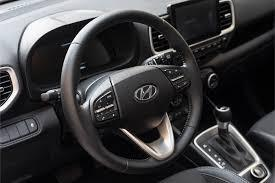hyundai: (128, 82, 161, 104)
